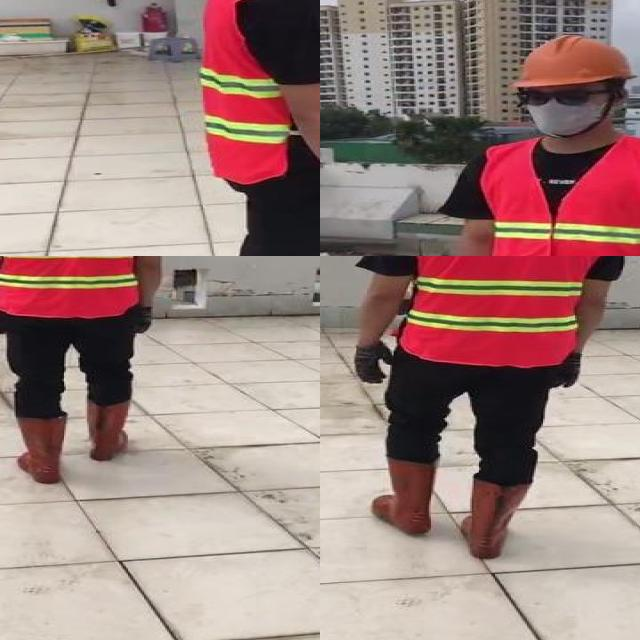boots: (461, 478, 531, 558), (369, 457, 438, 538), (14, 415, 66, 484), (85, 399, 134, 462)
face_mask: (516, 82, 607, 136)
glasses: (511, 84, 597, 110)
hand_glove: (353, 343, 399, 384), (552, 351, 584, 387), (137, 305, 155, 335)
head_helmet: (506, 31, 640, 90)
person: (346, 256, 631, 563), (438, 30, 640, 256), (0, 256, 178, 486), (173, 0, 320, 256)
vest: (201, 0, 320, 185), (406, 256, 603, 367), (485, 140, 640, 256), (0, 256, 145, 319)
